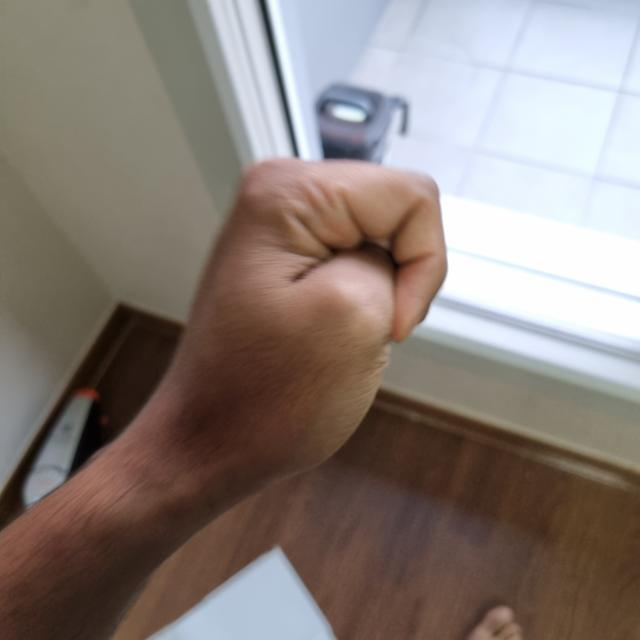Rock: (159, 158, 449, 494)
